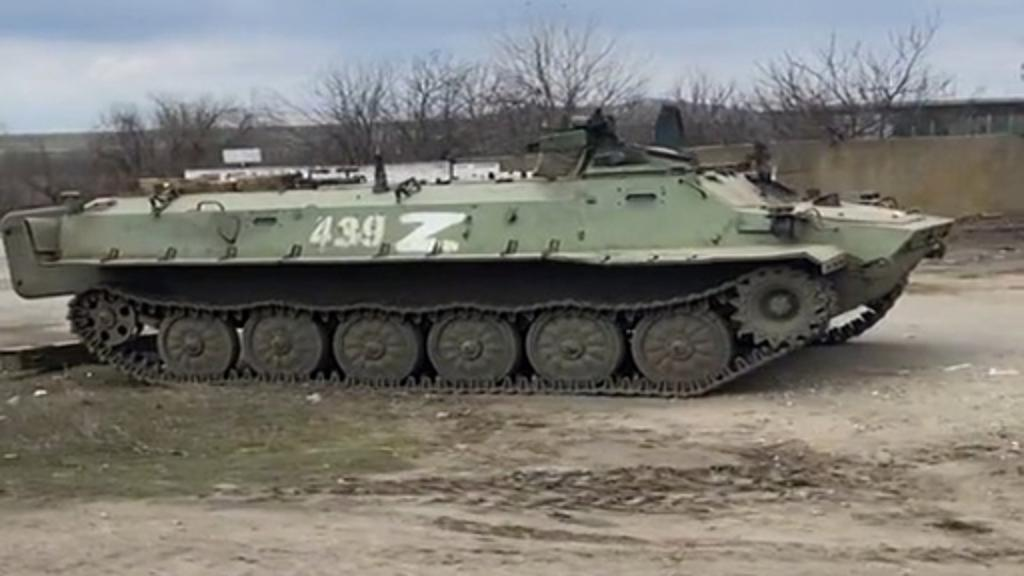APC-IFV: (8, 96, 952, 448)
